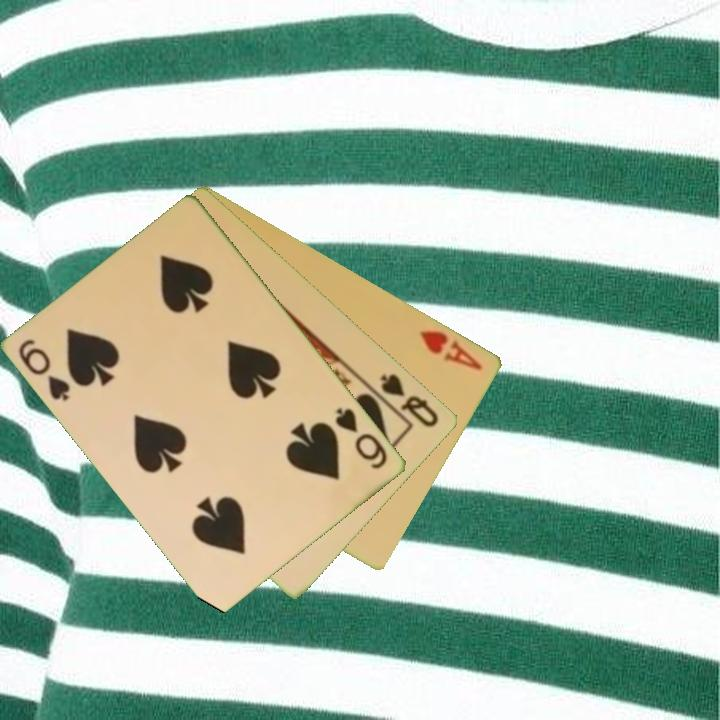6s: (15, 335, 74, 405), (332, 404, 391, 473)
Ah: (417, 326, 485, 374)
Qs: (377, 369, 442, 430)
